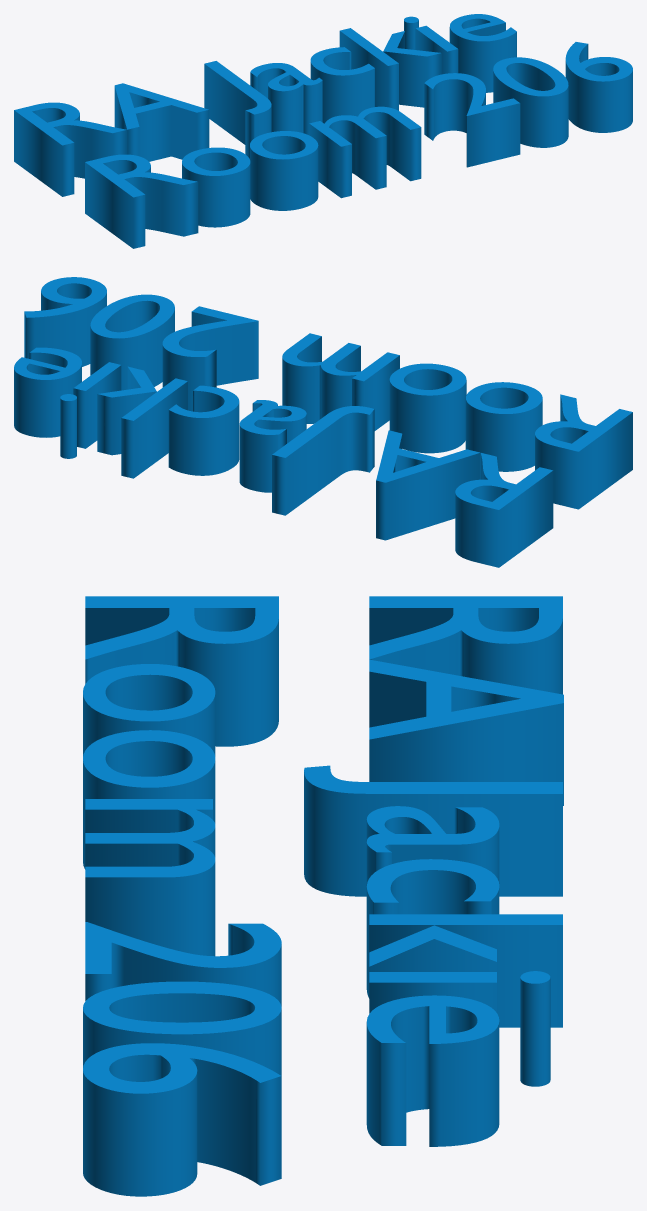
The model's file is ra-jackie-206.gltf.
The picture shows the model from 3 angles, top to bottom: view 1: azimuth 30°, elevation 25°; view 2: azimuth 150°, elevation 25°; view 3: azimuth 270°, elevation 25°; orthographic projection. The views are drawn at different scales.
Parts seen in each view (by area): view 1: Text; view 2: Text; view 3: Text.
Boxes of the visible parts, x1=… form: Text: x1=14, y1=14, x2=632, y2=248; Text: x1=14, y1=277, x2=632, y2=567; Text: x1=83, y1=596, x2=563, y2=1196.
Bounding box in the file's own units: 4.15 × 0.4 × 1.69.
